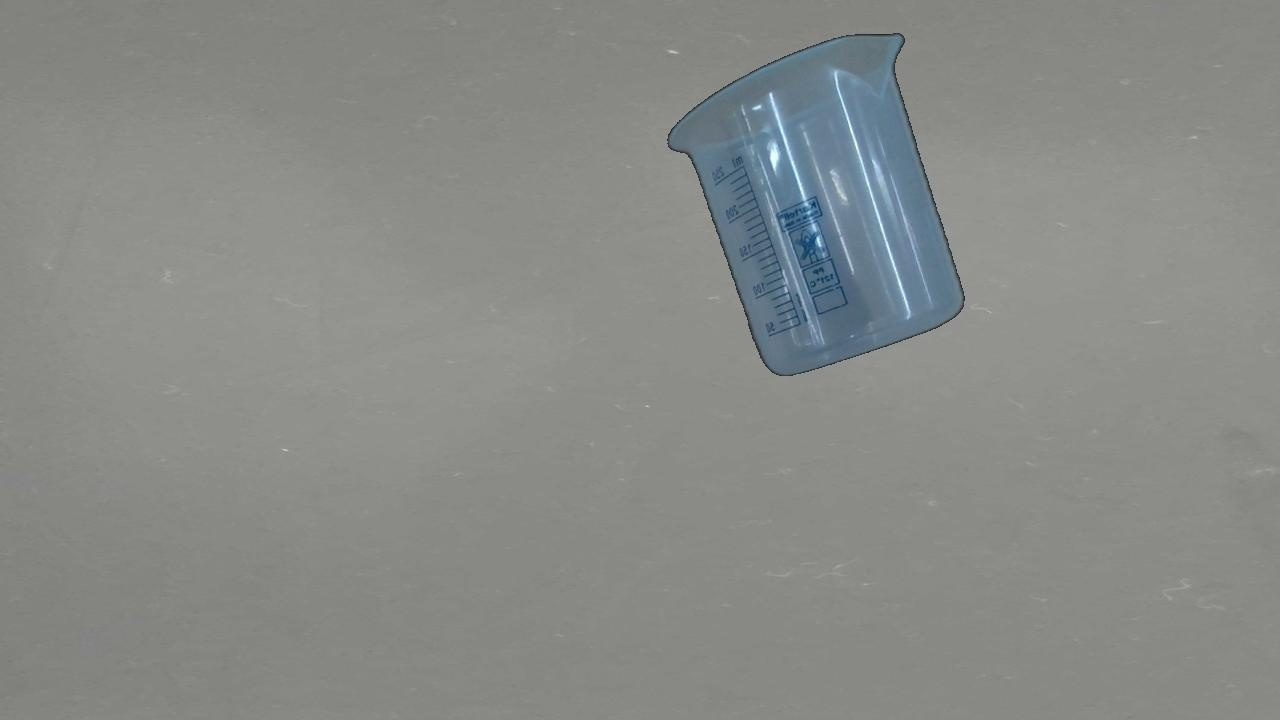becker: (665, 34, 966, 378)
